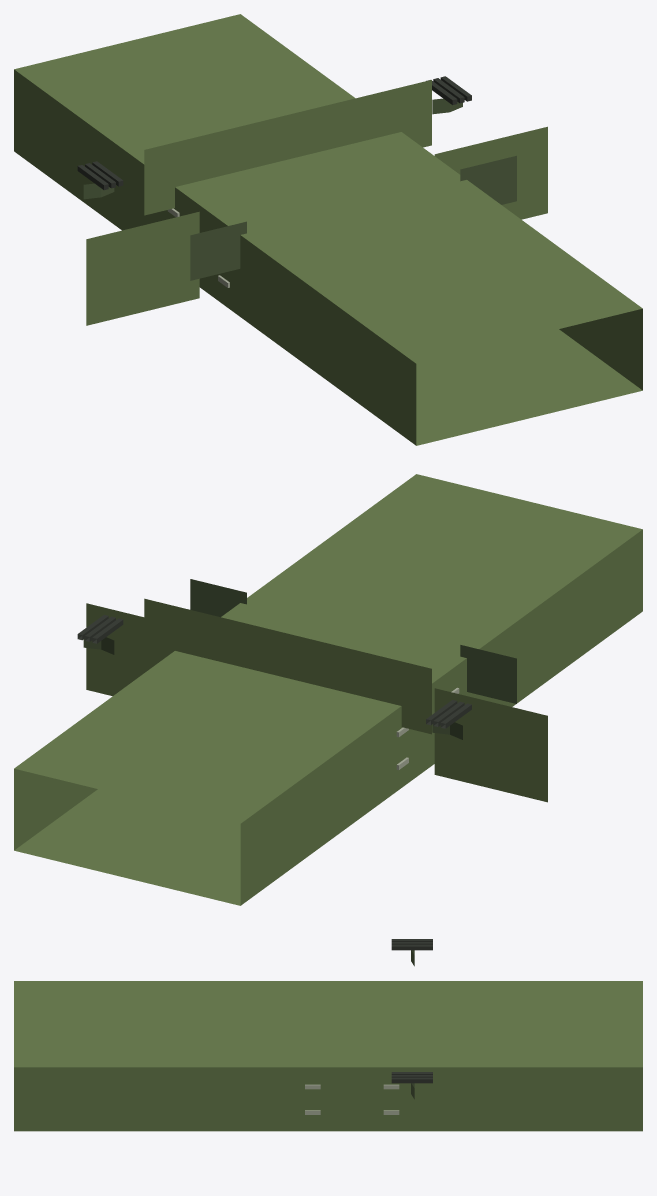
The model's file is heavy_core.obj.
3 renders of one model, top to bottom at view 1: azimuth 30°, elevation 25°; view 2: azimuth 150°, elevation 25°; view 3: azimuth 270°, elevation 25°, orthographic. The views are drawn at different scales.
Bounding box in the file's own units: 5.3 × 1.46 × 8.
Materials: 4 (4 with a texture image).
